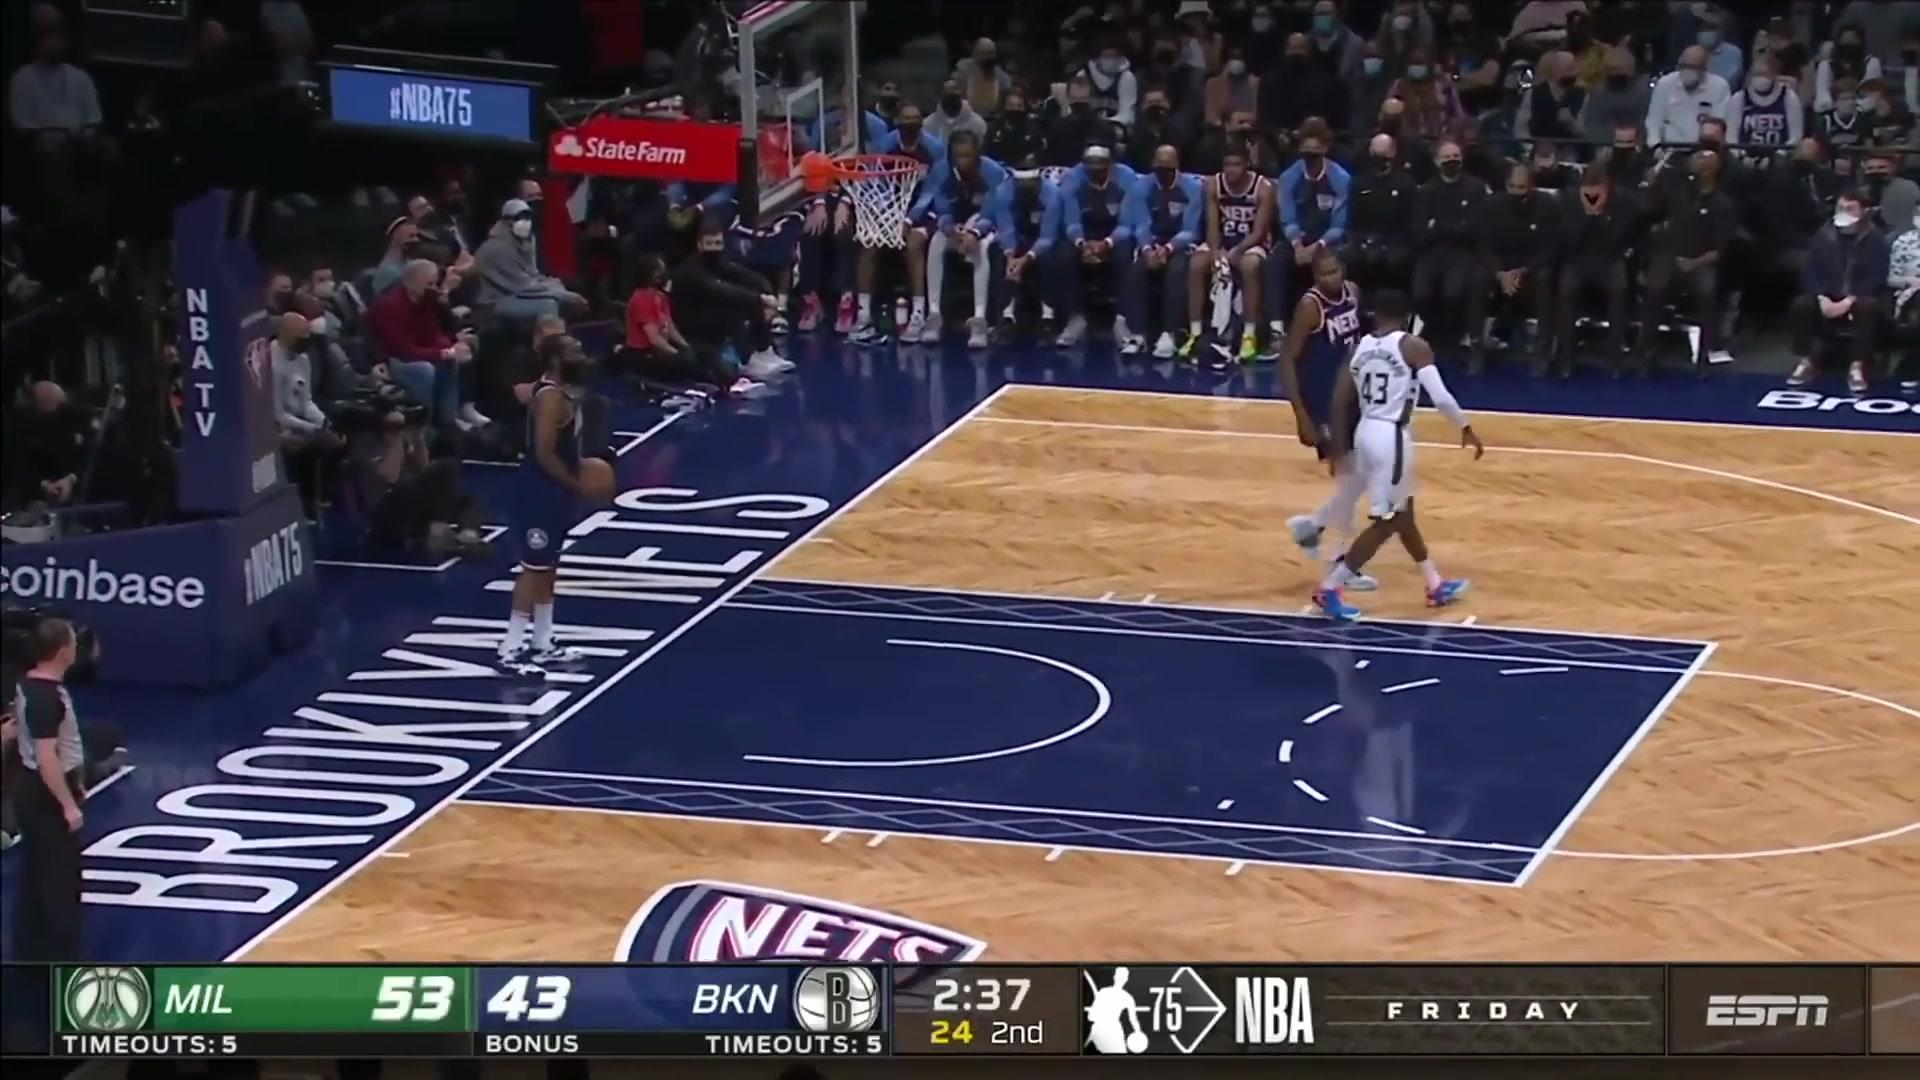no_foul: (1275, 244, 1484, 617)
